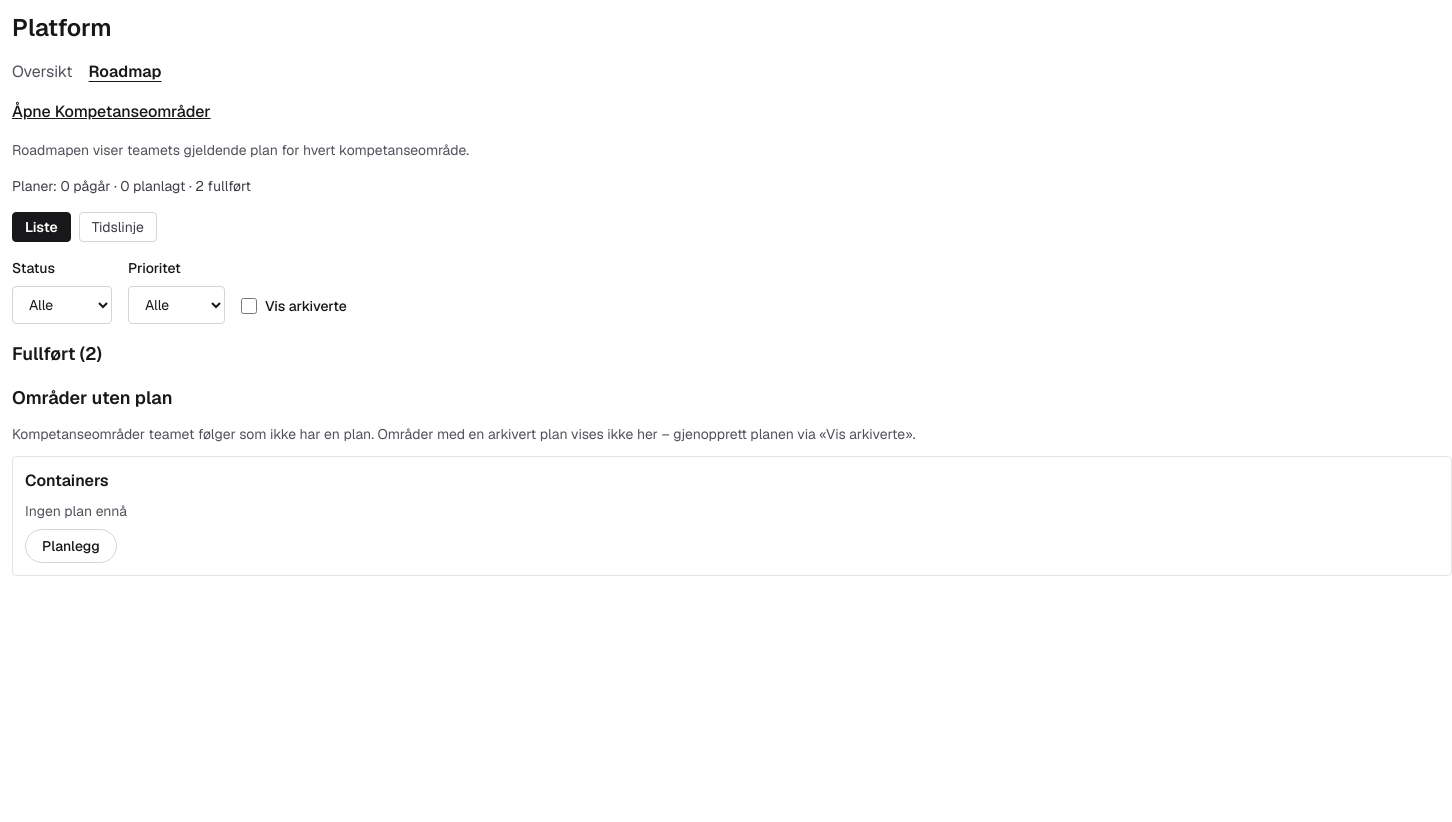
Test: Roadmap page editing — legacy completed plans (BR-23a) › gives a legacy completed plan no control while a valid completed plan keeps its edit control (list)
Click the button "Fullført (2)" at (57, 354), box [12, 340, 102, 368]
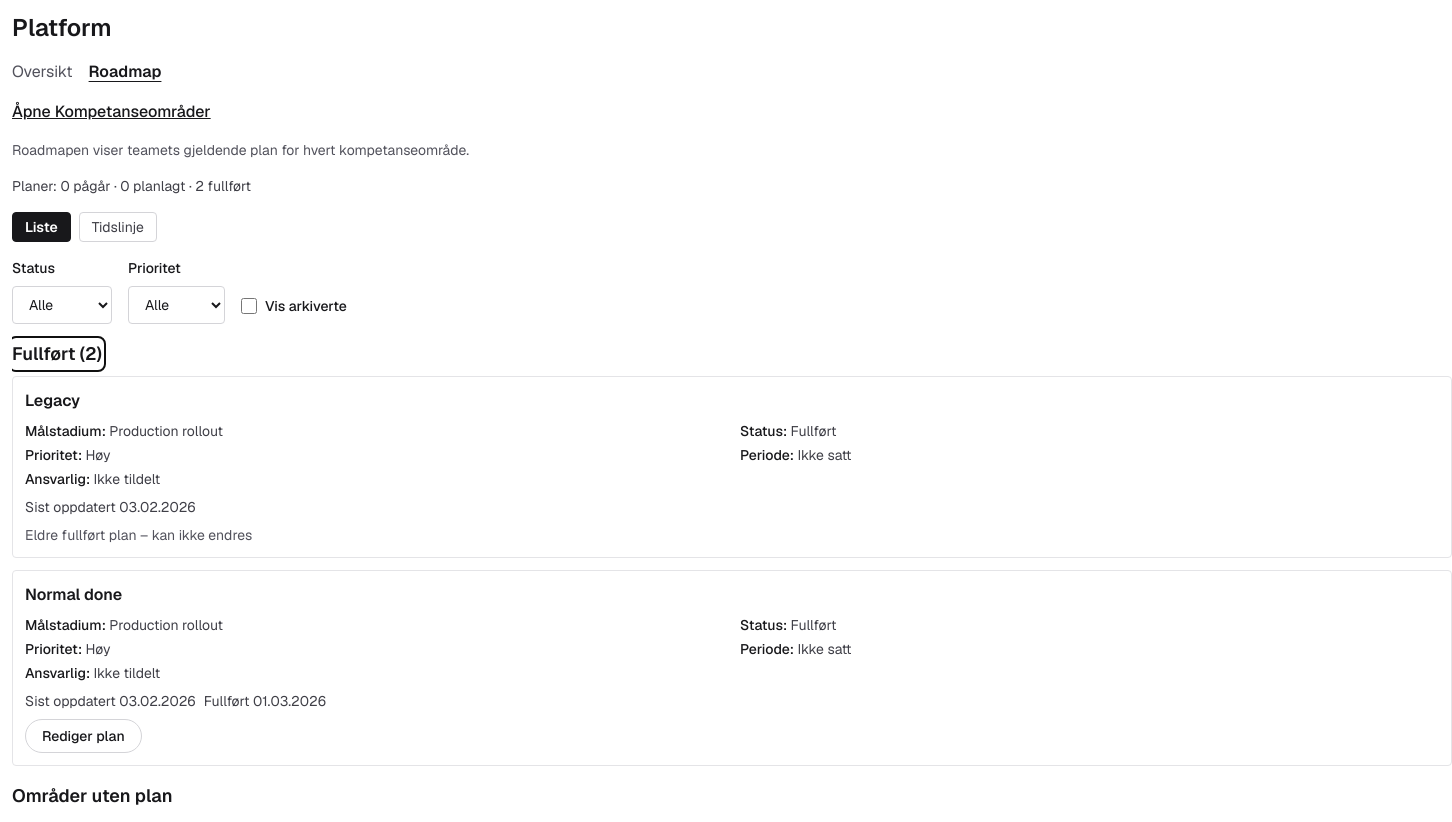
Check: the button with aria-label "Rediger plan – Third" is shown, box [25, 719, 142, 753]
Check: the heading "Legacy" is shown, box [25, 390, 80, 411]
